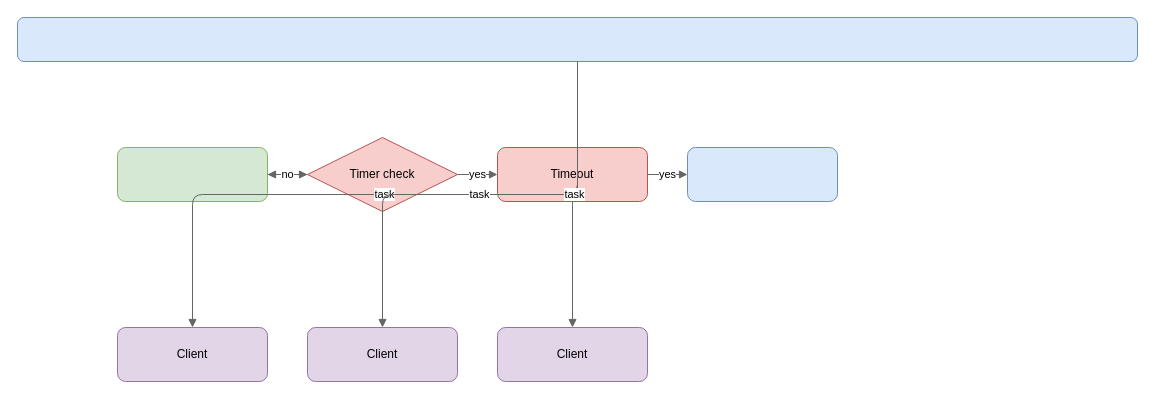
This 1155x399 diagram has some shape labels left out. Here are the shapes that lost their labels. From the top down, the centre of each, then its label:
At point (577, 39): "Watchdog Timer".
At point (192, 174): "Feed".
At point (762, 174): "Reset system".
